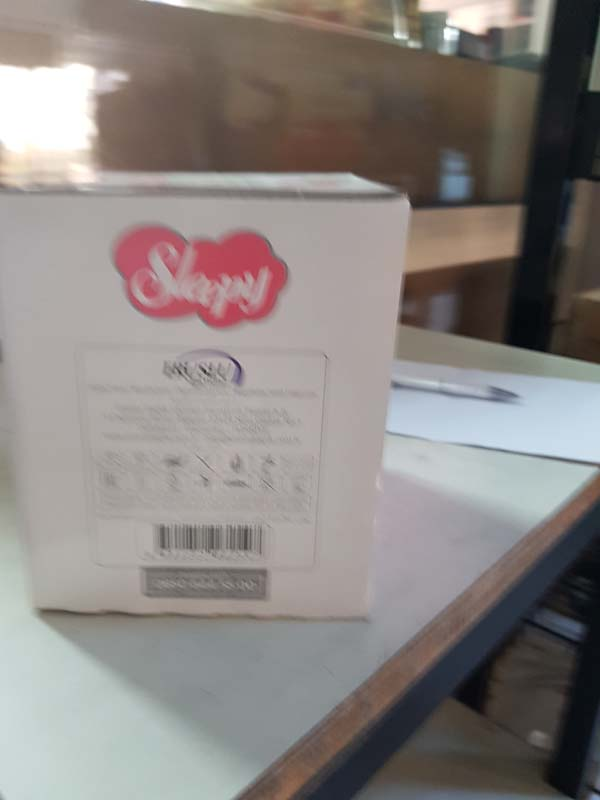sleepyogrencikoli: (4, 161, 392, 628)
